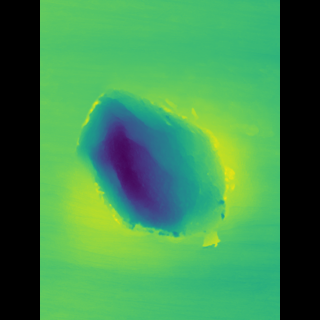Loch: (92, 81, 242, 254)
